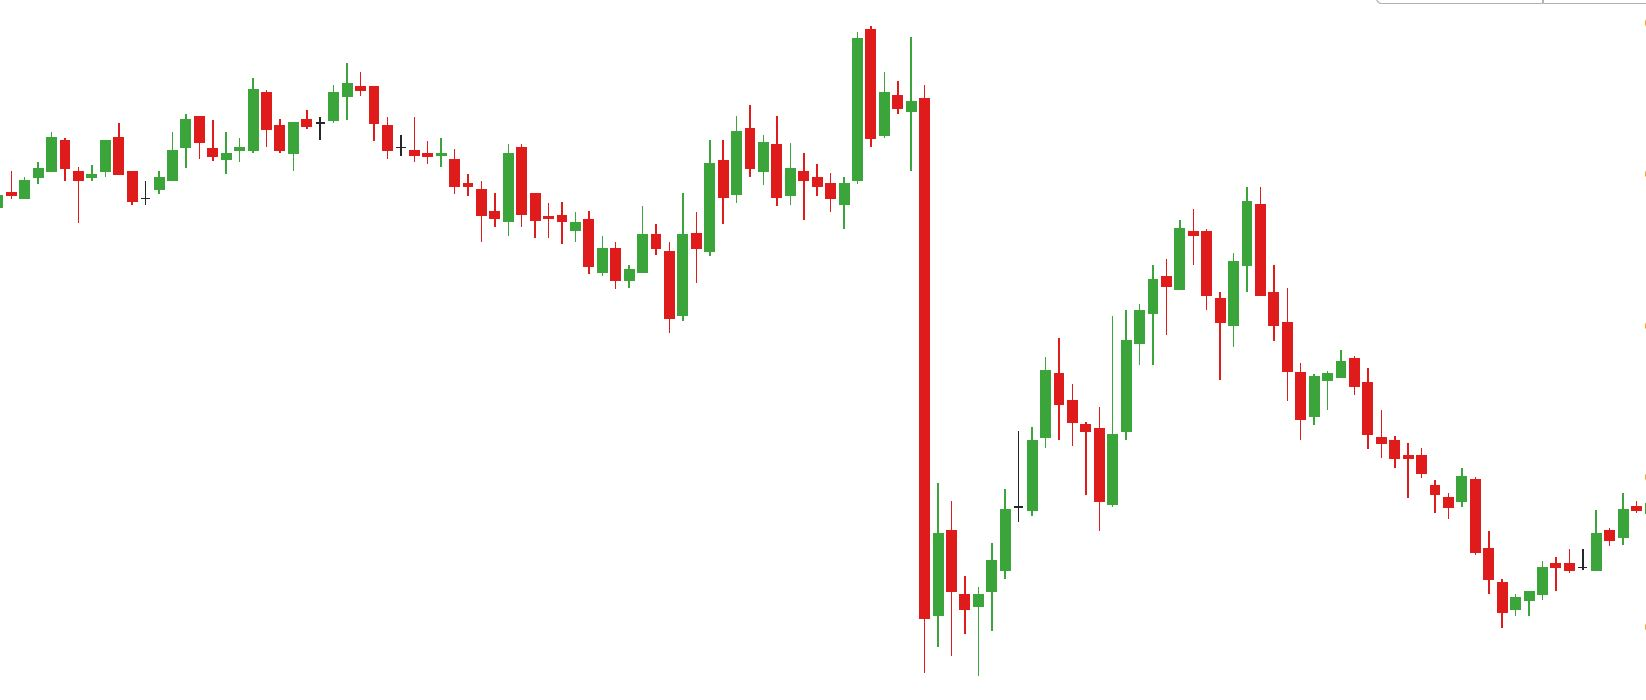buy: (1024, 387, 1121, 536)
sell: (744, 21, 880, 185), (1170, 184, 1269, 319)
